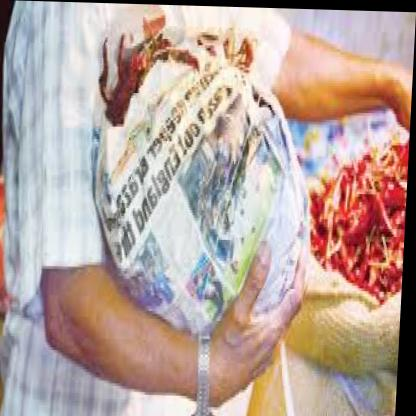Plastic: (63, 18, 352, 330)
